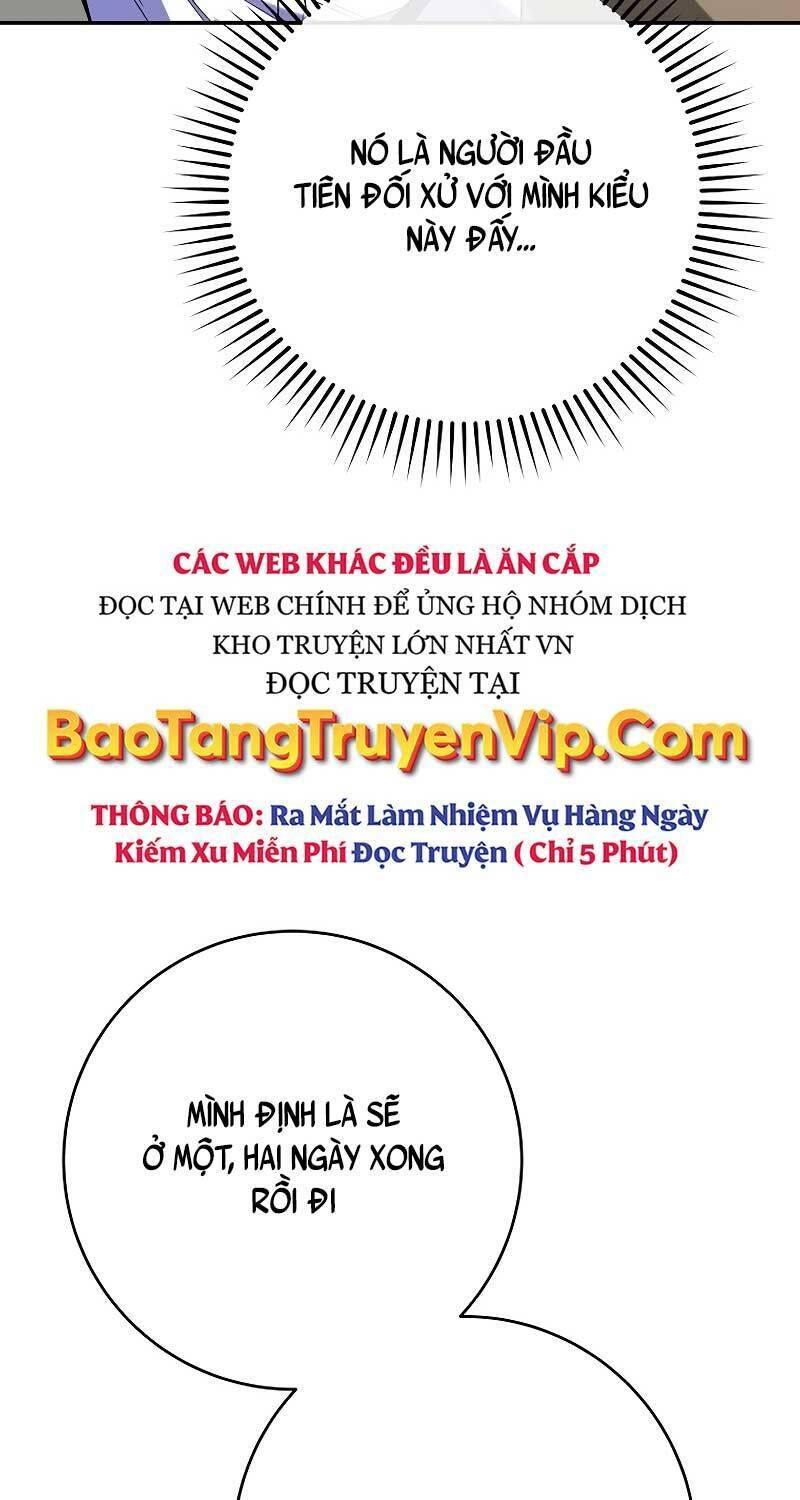quangcao: (32, 534, 764, 878)
